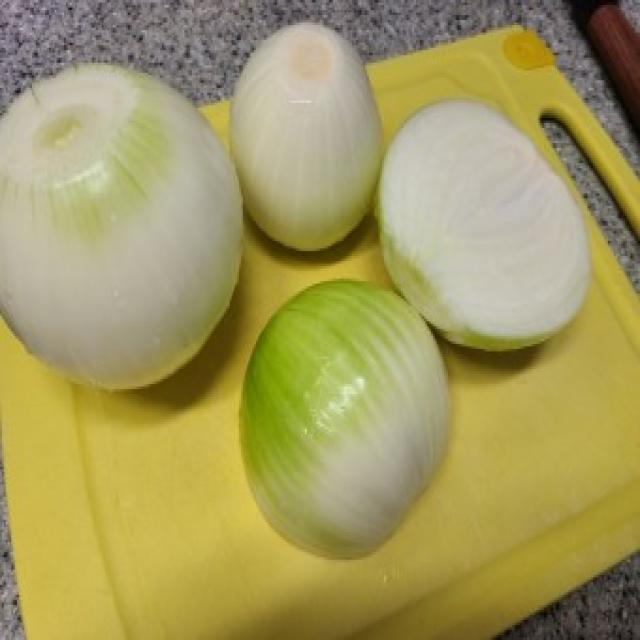onion: (5, 56, 235, 393), (378, 77, 608, 360), (238, 289, 446, 556), (231, 34, 381, 248)
